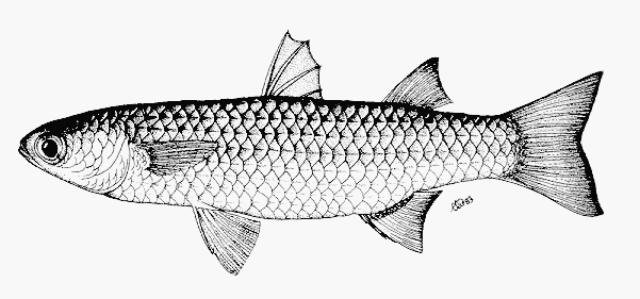Mulut: (13, 130, 44, 178)
Sirip Anal: (360, 180, 444, 258)
Sirip Ekor: (517, 65, 615, 225), (144, 133, 226, 181)
Sirip Perut: (192, 204, 266, 280)
Sirip Punggung: (260, 22, 452, 114)
